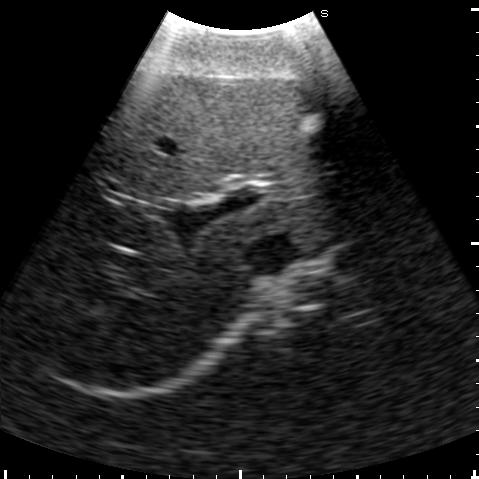IVC: (247, 235, 294, 276)
S1: (247, 200, 334, 250)
S3: (247, 68, 394, 187)
S4: (104, 75, 301, 199)
Tumor: (296, 113, 324, 135)
